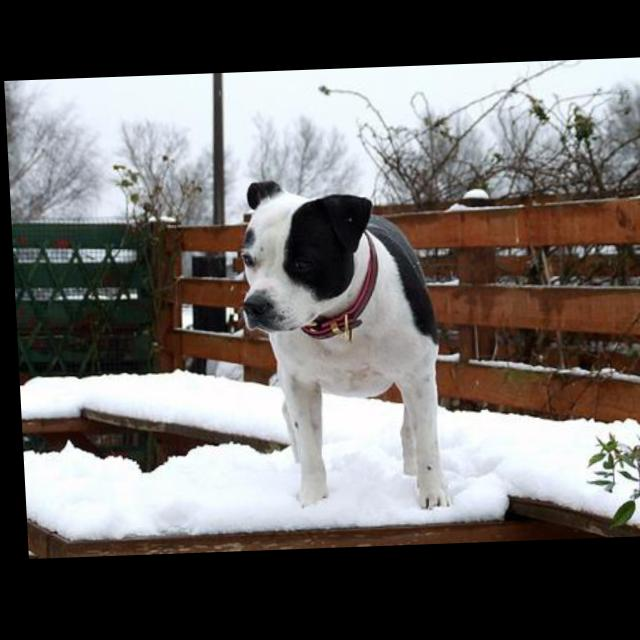staffford: (231, 177, 446, 519)
